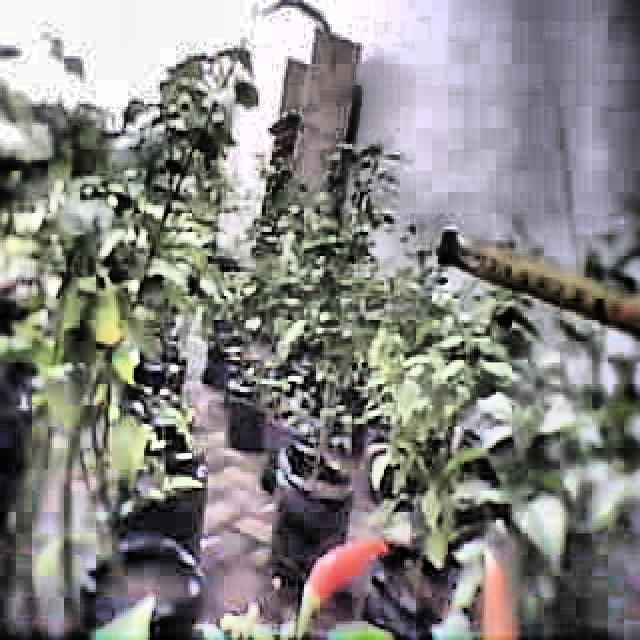Cabai: (283, 532, 394, 637), (466, 546, 526, 640)
